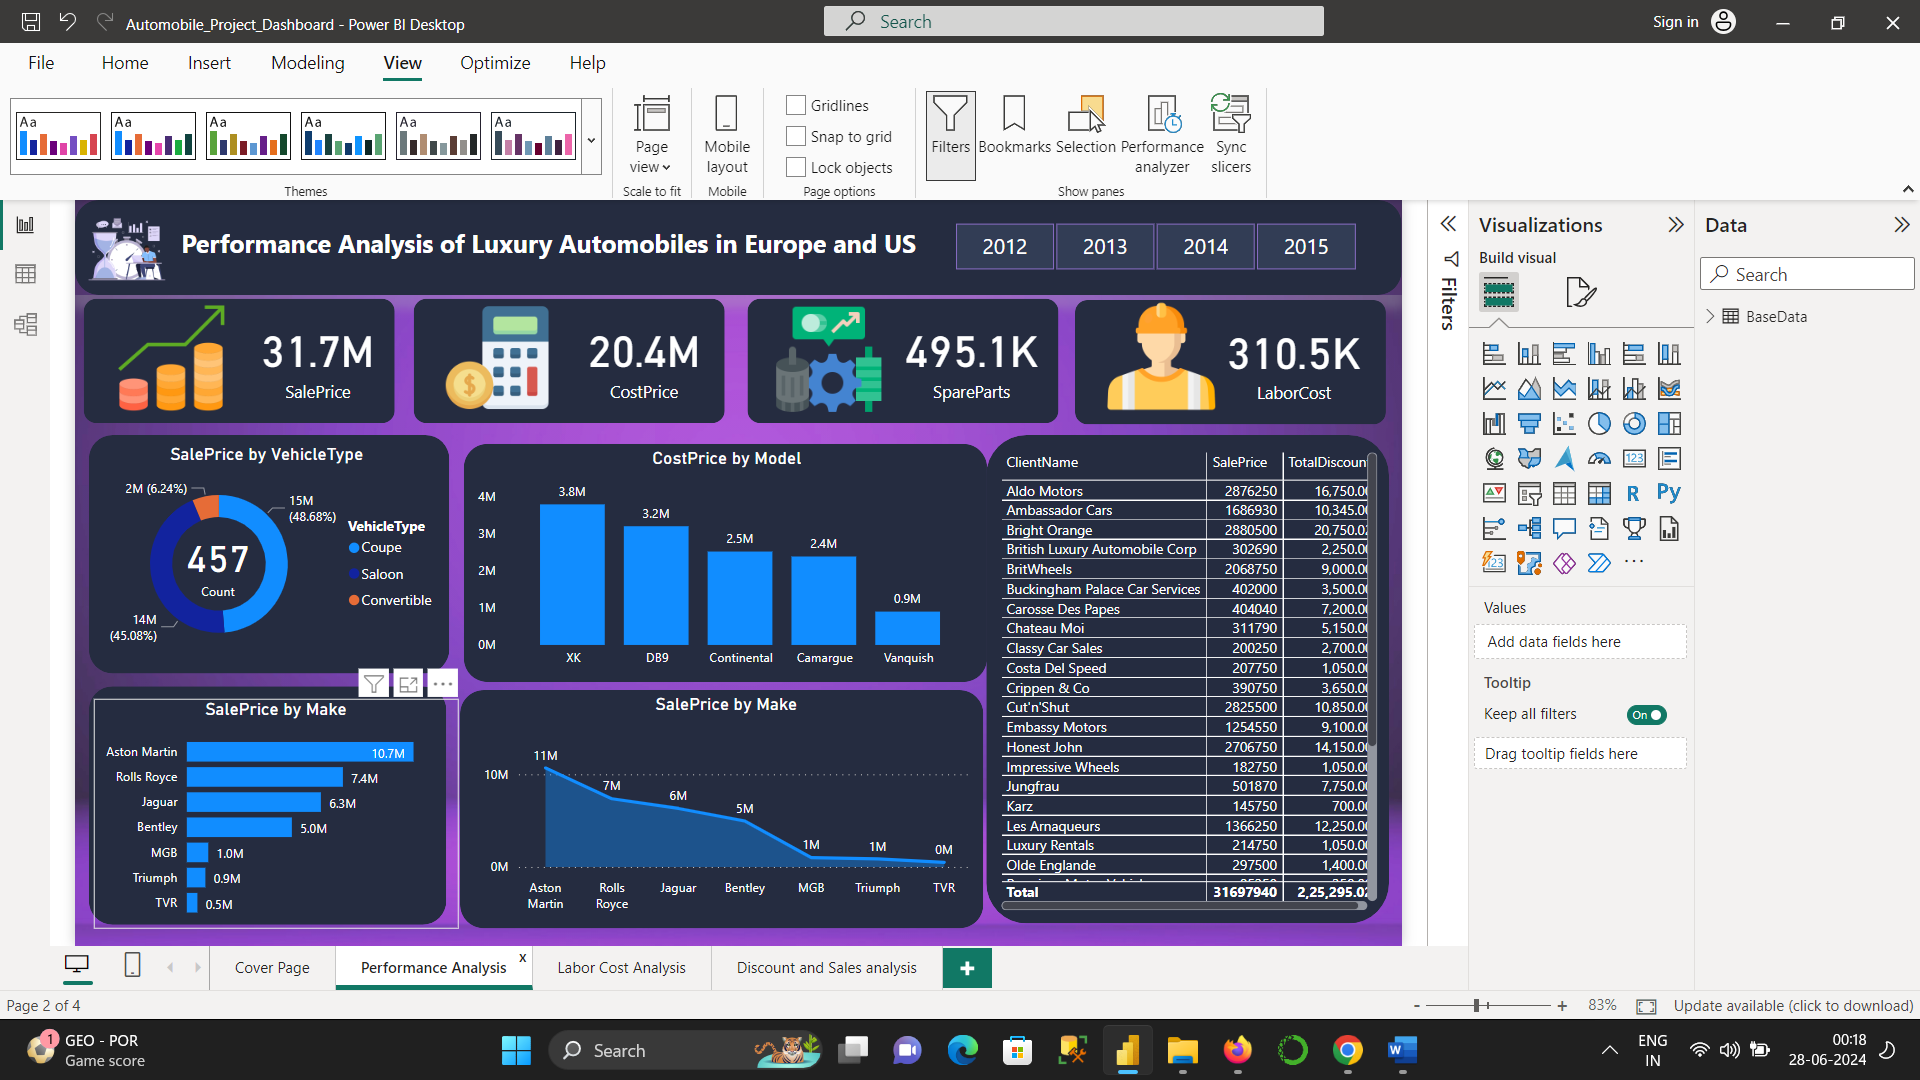

This screenshot's page, from the dashboard's own definition file:
{"tool":"powerbi","page":{"name":"Performance Analysis","canvas":[1280,720],"ordinal":1},"visuals":[{"type":"shape","box":[12.8,227.2,347.9,230.1],"z":0},{"type":"shape","box":[12.8,468.6,345.1,230.1],"z":1000},{"type":"shape","box":[375,235,505,230],"z":2000},{"type":"shape","box":[371.7,473.3,505,230],"z":3000},{"type":"shape","box":[879.7,226.9,388.7,471.3],"z":4000},{"type":"shape","box":[0,0,1280,91.7],"z":5000},{"type":"textbox","box":[51.4,20,810,50],"z":6000},{"type":"slicer","fields":{"Values":["BaseData.ReportingYear"]},"box":[824.3,15.7,435.7,58.6],"z":7000},{"type":"shape","box":[8.3,95,300,120],"z":8000},{"type":"shape","box":[326.7,95,300,120],"z":9000},{"type":"shape","box":[648.3,95,300,120],"z":10000},{"type":"shape","box":[965,96.7,300,120],"z":11000},{"type":"card","fields":{"Values":["BaseData.SalePrice"]},"box":[163.3,99,143.4,107.9],"z":12000},{"type":"card","fields":{"Values":["BaseData.CostPrice"]},"box":[477.2,99,143.4,107.9],"z":13000},{"type":"card","fields":{"Values":["BaseData.SpareParts"]},"box":[793.8,99,143.4,107.9],"z":14000},{"type":"card","fields":{"Values":["BaseData.LaborCost"]},"box":[1105,100,143.3,108.3],"z":15000},{"type":"image","box":[21.3,96.6,142,112.2],"z":16000},{"type":"image","box":[338,98,139.2,109.3],"z":17000},{"type":"image","box":[991.2,89.5,113.6,123.6],"z":18000},{"type":"image","box":[660.4,92.3,132.1,122.1],"z":19000},{"type":"donutChart","fields":{"Y":["BaseData.SalePrice"],"Category":["BaseData.VehicleType"]},"box":[9.9,235.7,350.8,213],"z":20000},{"type":"clusteredBarChart","fields":{"Y":["BaseData.SalePrice"],"Category":["BaseData.Make"]},"box":[18.3,481.7,351.7,221.7],"z":21000},{"type":"clusteredColumnChart","fields":{"Y":["BaseData.CostPrice"],"Category":["BaseData.Model"]},"box":[383.5,238.8,490.9,220.7],"z":22000},{"type":"tableEx","fields":{"Values":["BaseData.ClientName","BaseData.SalePrice","BaseData.TotalDiscount"]},"box":[887.9,238.5,373.5,451.5],"z":23000},{"type":"card","fields":{"Values":["BaseData.VehicleType"]},"box":[98,308.2,80.9,83.8],"z":24000},{"type":"areaChart","fields":{"Y":["BaseData.SalePrice"],"Category":["BaseData.Make"]},"box":[383.3,476.7,490,218.3],"z":25000},{"type":"image","box":[2.9,0,95.7,95.7],"z":26000}]}

Visuals, with their boxes on the page's 1280x720 design canvas (x1, y1, x2, y2). These are canvas units, not pixel positions in the 1920x1080 screenshot, which may show the page scaled, cropped or inside an application window:
shape: <bbox>13, 227, 361, 457</bbox>
shape: <bbox>13, 469, 358, 699</bbox>
shape: <bbox>375, 235, 880, 465</bbox>
shape: <bbox>372, 473, 877, 703</bbox>
shape: <bbox>880, 227, 1268, 698</bbox>
shape: <bbox>0, 0, 1280, 92</bbox>
textbox: <bbox>51, 20, 861, 70</bbox>
slicer - BaseData.ReportingYear: <bbox>824, 16, 1260, 74</bbox>
shape: <bbox>8, 95, 308, 215</bbox>
shape: <bbox>327, 95, 627, 215</bbox>
shape: <bbox>648, 95, 948, 215</bbox>
shape: <bbox>965, 97, 1265, 217</bbox>
card - BaseData.SalePrice: <bbox>163, 99, 307, 207</bbox>
card - BaseData.CostPrice: <bbox>477, 99, 621, 207</bbox>
card - BaseData.SpareParts: <bbox>794, 99, 937, 207</bbox>
card - BaseData.LaborCost: <bbox>1105, 100, 1248, 208</bbox>
image: <bbox>21, 97, 163, 209</bbox>
image: <bbox>338, 98, 477, 207</bbox>
image: <bbox>991, 90, 1105, 213</bbox>
image: <bbox>660, 92, 792, 214</bbox>
donutChart - BaseData.SalePrice x BaseData.VehicleType: <bbox>10, 236, 361, 449</bbox>
clusteredBarChart - BaseData.SalePrice x BaseData.Make: <bbox>18, 482, 370, 703</bbox>
clusteredColumnChart - BaseData.CostPrice x BaseData.Model: <bbox>384, 239, 874, 460</bbox>
tableEx - BaseData.ClientName x BaseData.SalePrice: <bbox>888, 238, 1261, 690</bbox>
card - BaseData.VehicleType: <bbox>98, 308, 179, 392</bbox>
areaChart - BaseData.SalePrice x BaseData.Make: <bbox>383, 477, 873, 695</bbox>
image: <bbox>3, 0, 99, 96</bbox>
